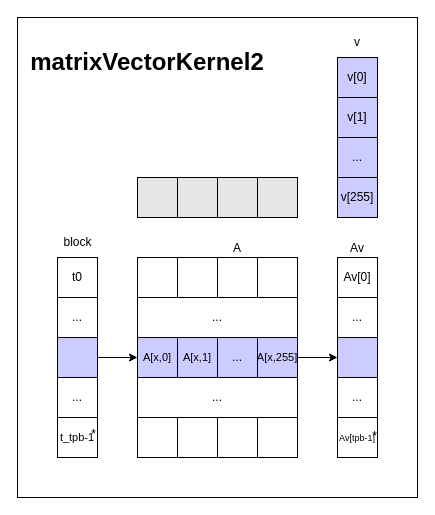
The diagram is 435 pixels wide and 515 high, and some of its shapes have lost their labels. Here are the shapes that lost their labels. From the top down, the box of each, then its label:
(56, 336, 98, 378): tx
(336, 336, 378, 378): Av[x]
